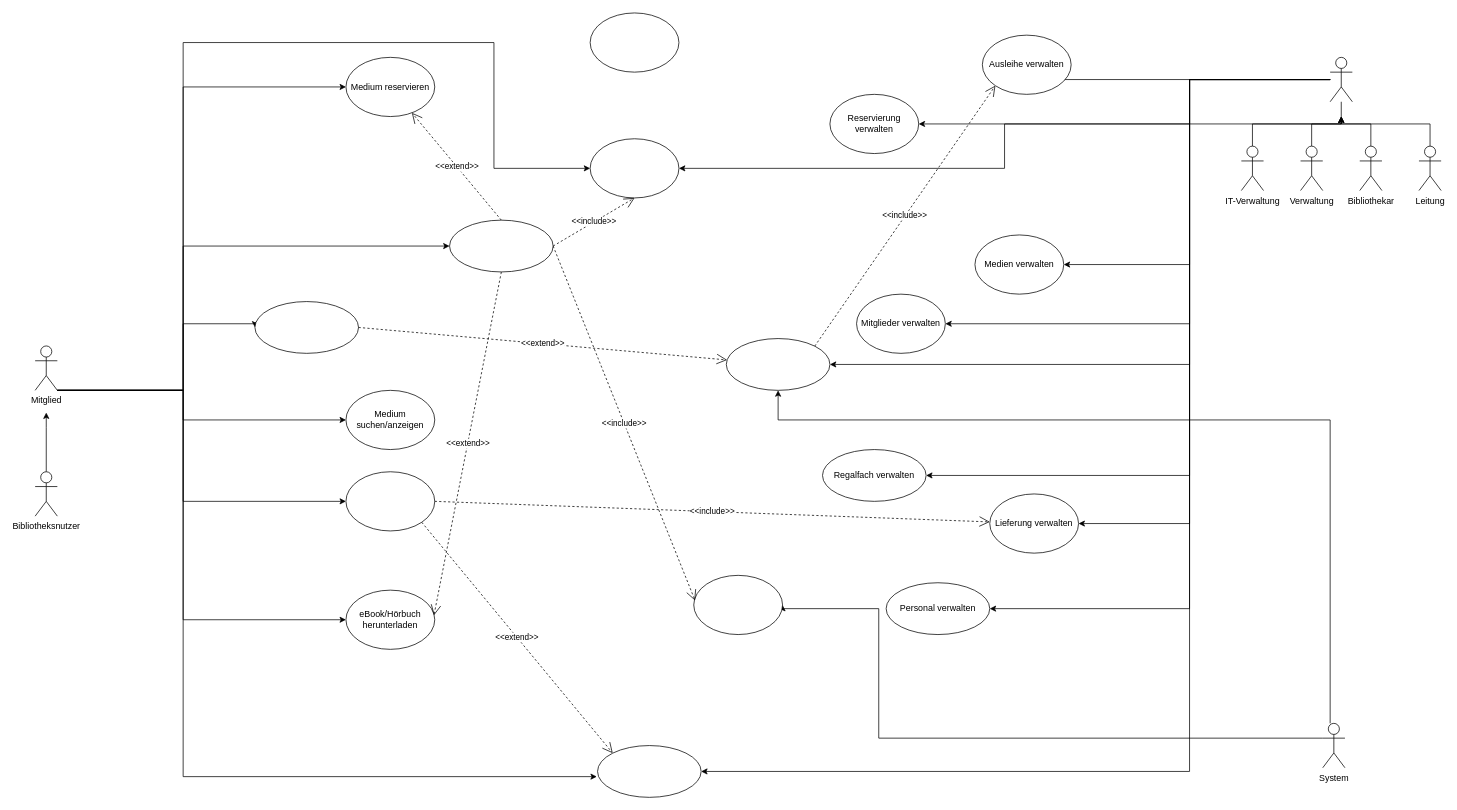
Image size: 1457x810. Some labels were removed from this diagram. The centre of each missing label's shape, as x and y in pixels:
Addresse verwalten: the point at 649,771
authentifizierung: the point at 634,42
Lieferung beauftragung: the point at 390,501
Mahnung ausstellen: the point at 778,364
Medium ausleihen: the point at 501,245
Medium zurückgeben: the point at 306,327
Mitarbeiter: the point at 1340,79
Mitglieder authetifizieren: the point at 634,168
Verfügbarkeit prüfen: the point at 738,605
